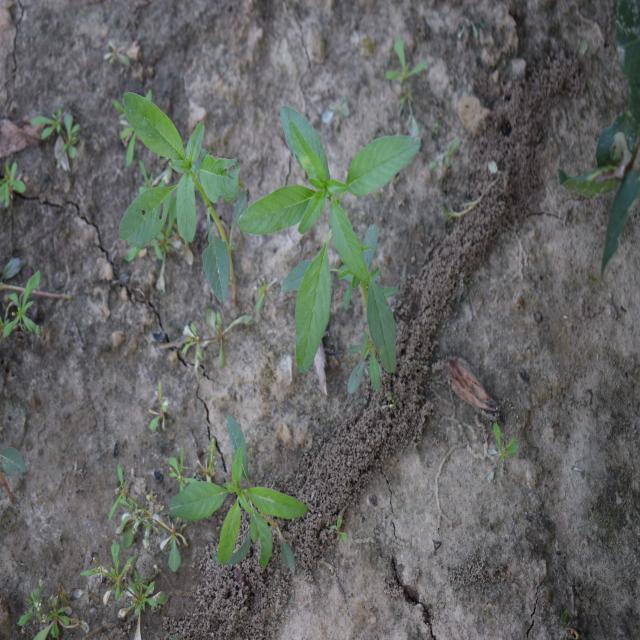Carpetweed: (108, 465, 190, 575), (79, 539, 168, 621), (176, 308, 257, 369), (16, 577, 73, 637), (163, 437, 223, 494), (29, 106, 81, 166), (0, 271, 42, 342), (145, 379, 173, 437), (1, 161, 26, 207)
Waterhemp: (236, 106, 422, 396), (118, 90, 242, 308), (168, 413, 310, 576)
